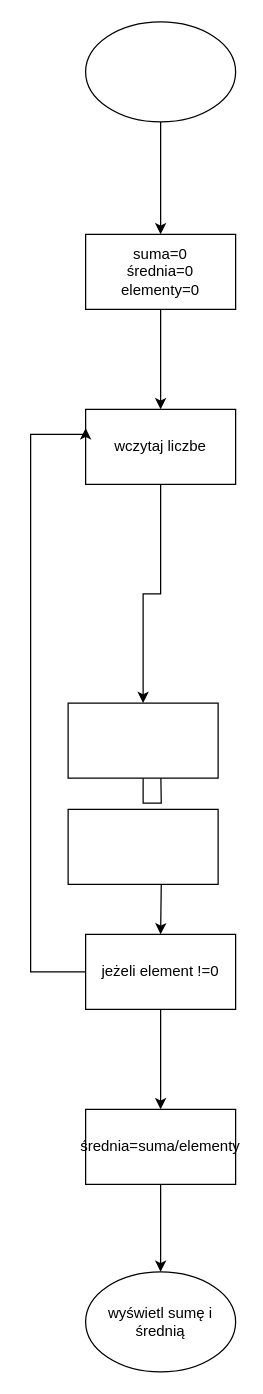
The diagram is 263 pixels wide and 1394 high, and some of its shapes have lost their labels. The shapes that lost their labels are listed below. From the top down, each one's centre as x and y in pixels, then its label:
pixel 160 71: start
pixel 142 740: zwiększ sume oliczbę
pixel 142 846: liczba różna 0d 0
